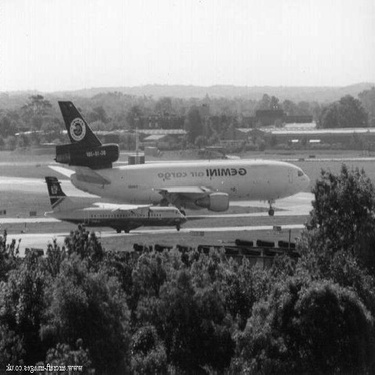airplane: (33, 91, 312, 224), (27, 163, 192, 237)
